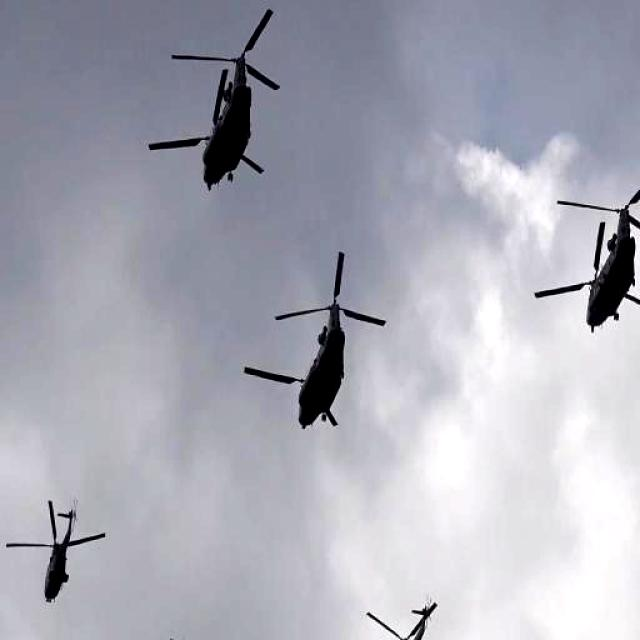drone: (255, 231, 389, 450), (140, 0, 285, 196), (534, 160, 640, 355), (9, 490, 104, 604), (362, 570, 452, 640)
